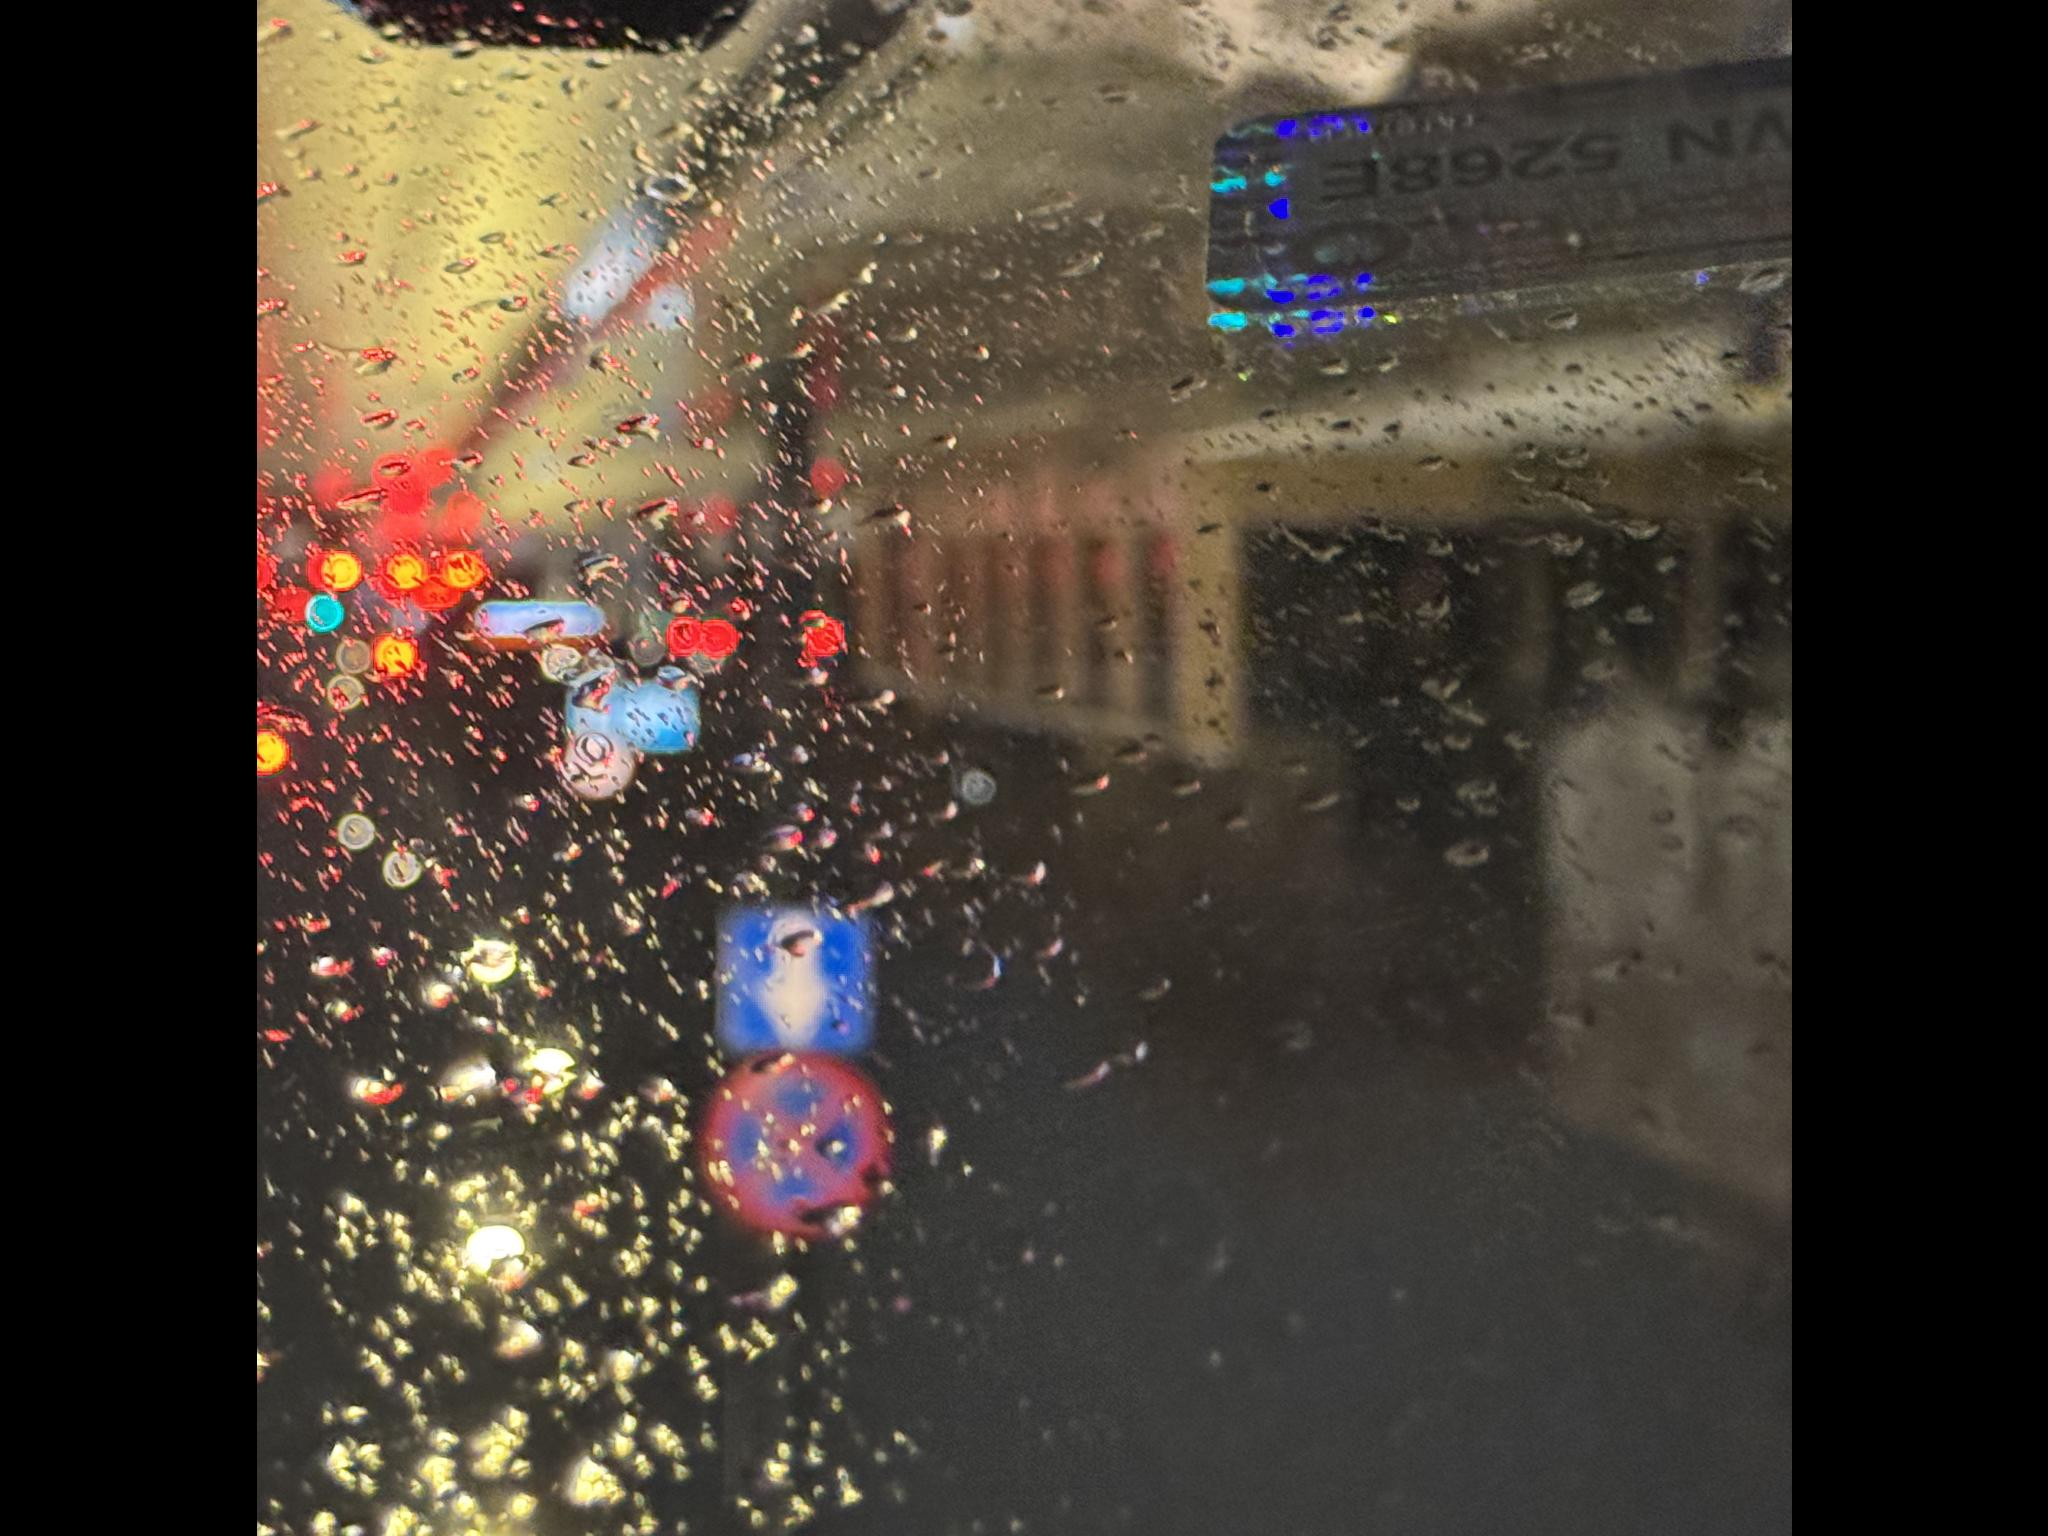information: (1050, 1160, 1242, 1352), (906, 1179, 1056, 1329)
